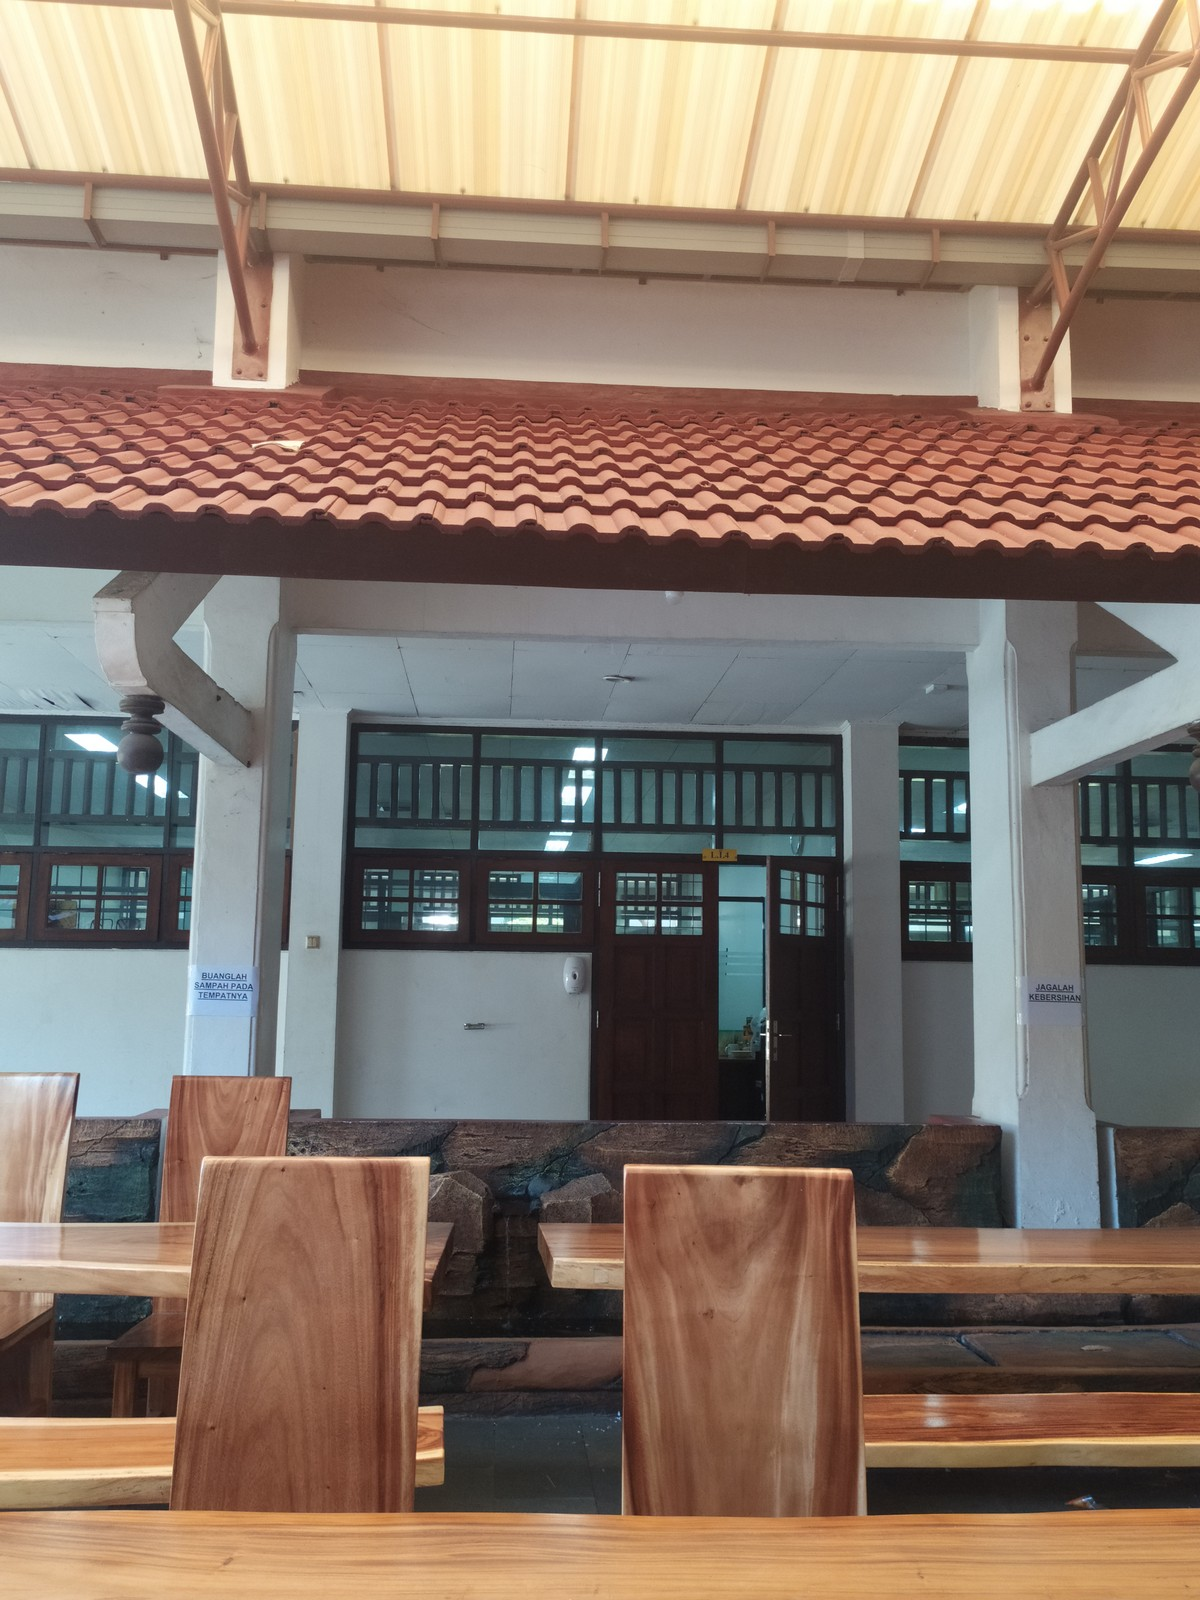concrete beam: (1013, 682, 1186, 796), (160, 665, 261, 781)
concrete column: (963, 607, 1105, 1225), (184, 625, 303, 1078), (827, 712, 918, 1129), (280, 700, 363, 1115)
